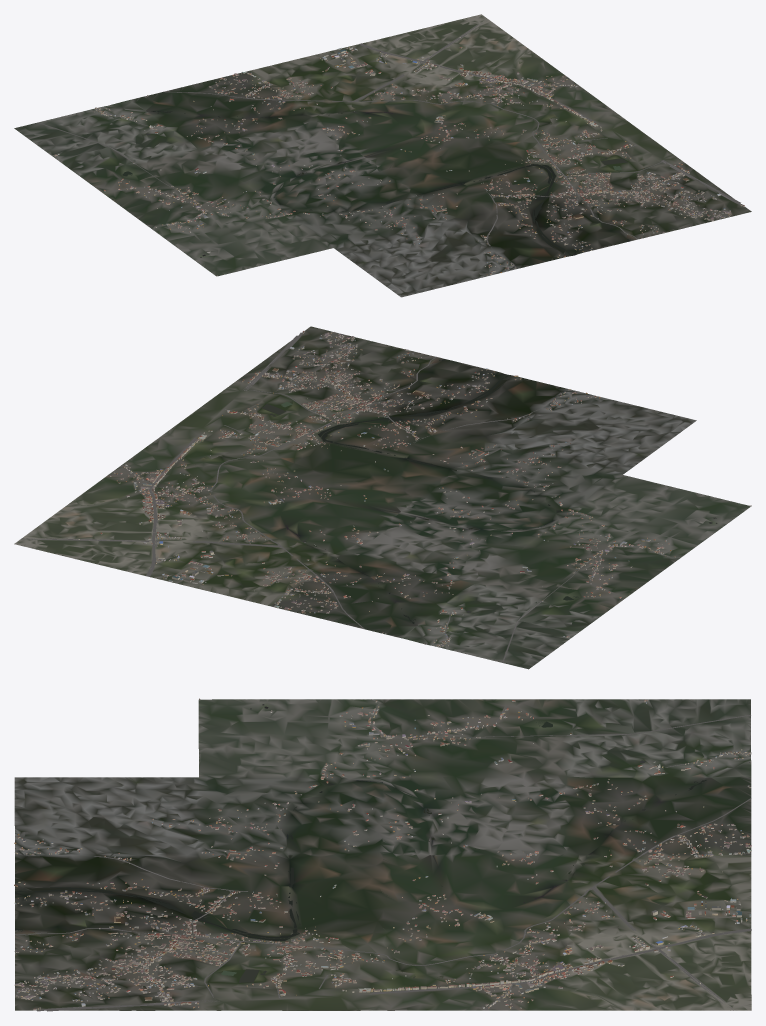
3 views of the same model, one above another, from view 1: azimuth 30°, elevation 25°; view 2: azimuth 150°, elevation 25°; view 3: azimuth 270°, elevation 25° (orthographic). The views are drawn at different scales.
Visible parts, largest first — view 1: ground, buildings, roads, water; view 2: ground, buildings, roads, water; view 3: ground, buildings, roads, water.
Part boxes in pixels (x1,y1,x2,y2): ground: (14, 14, 751, 297); buildings: (54, 37, 744, 276); roads: (37, 19, 743, 269); water: (122, 109, 630, 257); ground: (14, 326, 750, 669); buildings: (78, 331, 751, 647); roads: (21, 332, 681, 662); water: (193, 355, 717, 643); ground: (14, 699, 751, 1010); buildings: (14, 698, 751, 1010); roads: (15, 699, 751, 1011); water: (15, 704, 749, 982).
Size of the model in its own units: 5628 by 35.38 by 5619.
